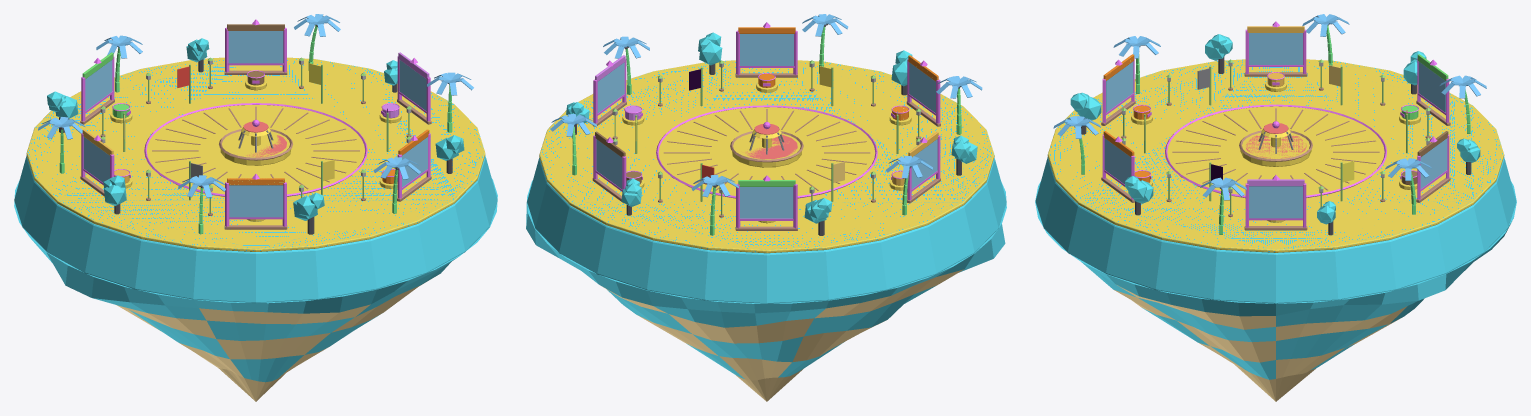
The model's file is Centro.obj.
3 renders of one model, left to right at view 1: azimuth 30°, elevation 25°; view 2: azimuth 150°, elevation 25°; view 3: azimuth 270°, elevation 25°, orthographic.
Visible parts, largest first — view 1: Centro_Plaza_9, Centro_Base_Flotante, Centro_Top_Tiempo_Pantalla, Centro_Top_Giros_Pantalla, Centro_Top_Tiempo, Centro_Top_Giros, Centro_Top_Oleadas, Centro_Top_Monedas, Centro_Top_Torretas, Centro_Top_Enemigos, Centro_Top_Oleadas_Pantalla, Centro_Top_Monedas_Pantalla (+17 smaller); view 2: Centro_Plaza_9, Centro_Base_Flotante, Centro_Top_Oleadas_Pantalla, Centro_Top_Torretas_Pantalla, Centro_Top_Torretas, Centro_Top_Oleadas, Centro_Top_Monedas, Centro_Top_Giros, Centro_Top_Enemigos, Centro_Top_Tiempo, Centro_Top_Monedas_Pantalla, Centro_Top_Giros_Pantalla (+16 smaller); view 3: Centro_Plaza_9, Centro_Base_Flotante, Centro_Top_Monedas_Pantalla, Centro_Top_Enemigos_Pantalla, Centro_Top_Enemigos, Centro_Top_Monedas, Centro_Top_Giros, Centro_Top_Oleadas, Centro_Top_Tiempo, Centro_Top_Torretas, Centro_Top_Giros_Pantalla, Centro_Top_Oleadas_Pantalla (+17 smaller).
Part boxes in pixels (box(x1,y1,x2,y2)): Centro_Plaza_9: box(14, 57, 497, 303); Centro_Base_Flotante: box(14, 178, 497, 401); Centro_Top_Tiempo_Pantalla: box(228, 31, 283, 63); Centro_Top_Giros_Pantalla: box(229, 185, 283, 217); Centro_Top_Tiempo: box(224, 19, 287, 90); Centro_Top_Giros: box(224, 174, 287, 229); Centro_Top_Oleadas: box(80, 52, 132, 124); Centro_Top_Monedas: box(379, 52, 431, 124); Centro_Top_Torretas: box(379, 129, 431, 201); Centro_Top_Enemigos: box(80, 129, 132, 196); Centro_Top_Oleadas_Pantalla: box(85, 60, 112, 110); Centro_Top_Monedas_Pantalla: box(399, 60, 426, 110); Centro_Plaza_9: box(527, 60, 1006, 303); Centro_Base_Flotante: box(526, 180, 1006, 401); Centro_Top_Oleadas_Pantalla: box(740, 187, 793, 218); Centro_Top_Torretas_Pantalla: box(740, 34, 793, 65); Centro_Top_Torretas: box(735, 22, 797, 92); Centro_Top_Oleadas: box(735, 175, 797, 230); Centro_Top_Monedas: box(593, 55, 644, 126); Centro_Top_Giros: box(889, 55, 940, 126); Centro_Top_Enemigos: box(889, 131, 940, 203); Centro_Top_Tiempo: box(592, 131, 644, 203); Centro_Top_Monedas_Pantalla: box(597, 62, 624, 113); Centro_Top_Giros_Pantalla: box(909, 62, 935, 113); Centro_Plaza_9: box(1035, 59, 1516, 303); Centro_Base_Flotante: box(1035, 181, 1516, 401); Centro_Top_Monedas_Pantalla: box(1249, 186, 1302, 218); Centro_Top_Enemigos_Pantalla: box(1249, 33, 1302, 64); Centro_Top_Enemigos: box(1244, 21, 1307, 91); Centro_Top_Monedas: box(1244, 175, 1307, 230); Centro_Top_Giros: box(1101, 54, 1152, 125); Centro_Top_Oleadas: box(1399, 54, 1450, 125); Centro_Top_Tiempo: box(1399, 131, 1450, 202); Centro_Top_Torretas: box(1101, 131, 1152, 202); Centro_Top_Giros_Pantalla: box(1106, 61, 1133, 112); Centro_Top_Oleadas_Pantalla: box(1418, 61, 1445, 112).
Bounding box in the file's own units: 57 × 39.7 × 57.
1 material, 1 textured.
